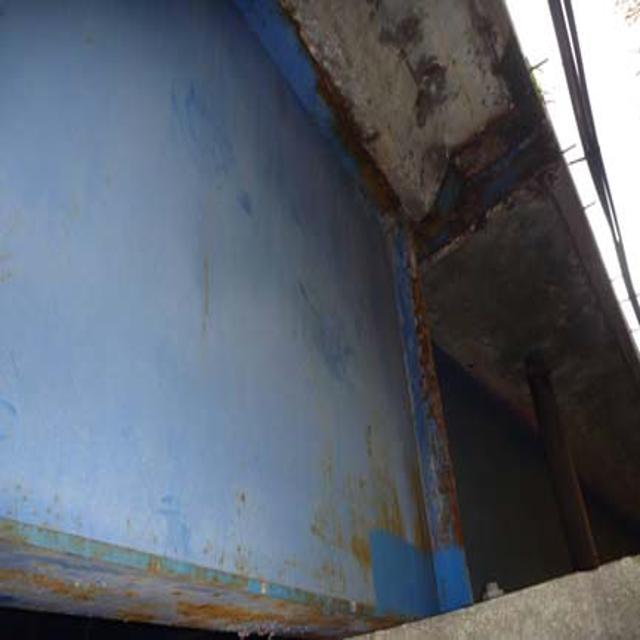corrosion: (294, 36, 564, 556)
